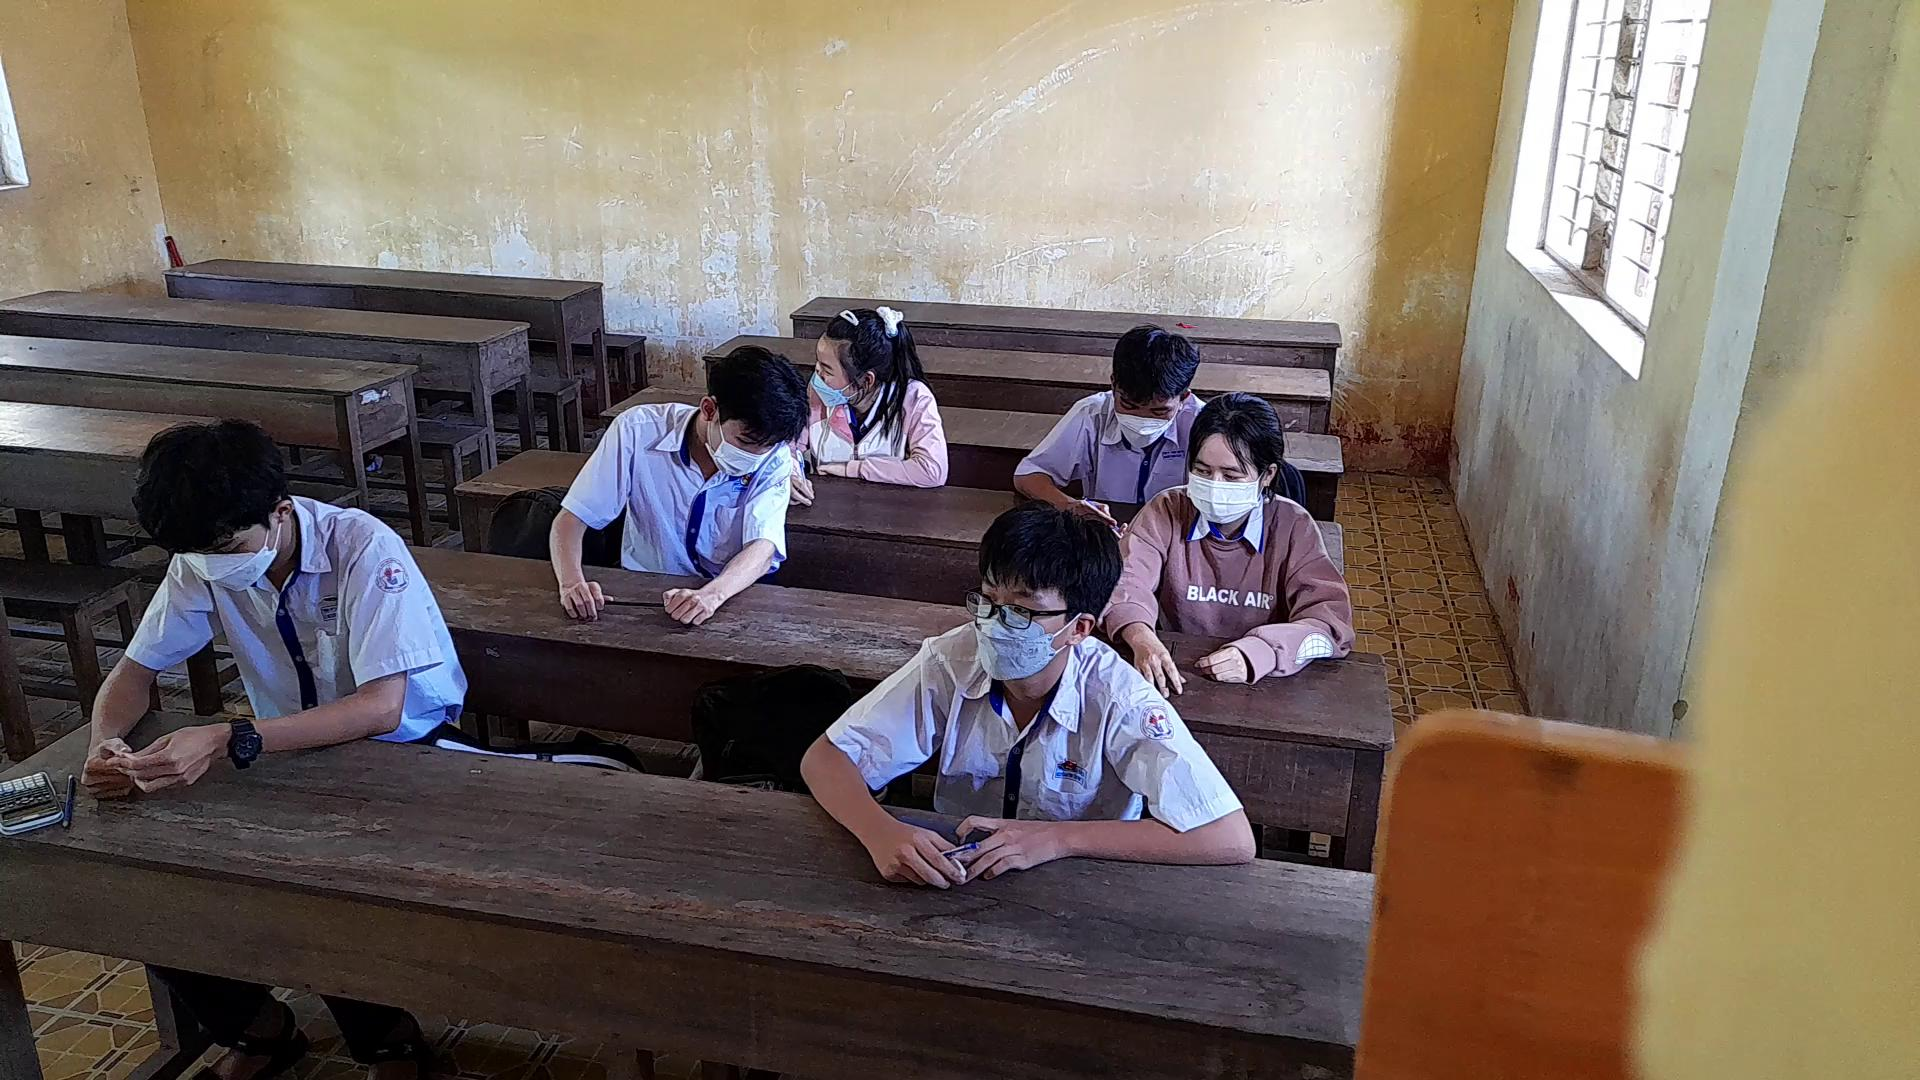Bend Over The Desk: (691, 334, 796, 479)
Look Around: (945, 495, 1126, 680), (803, 293, 927, 422)
Normal: (59, 409, 462, 800), (1112, 388, 1362, 690), (1002, 314, 1191, 520)
